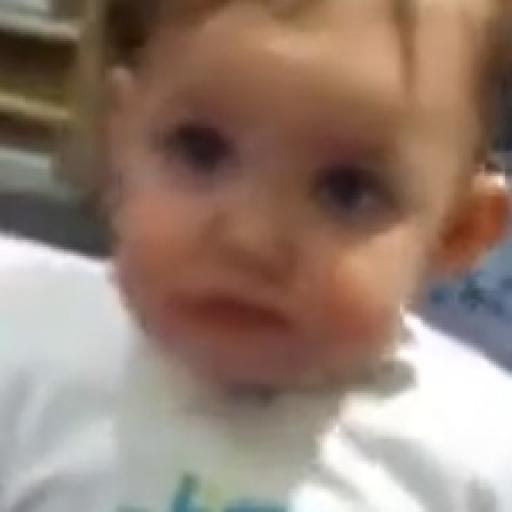Autism: (103, 5, 512, 409)
